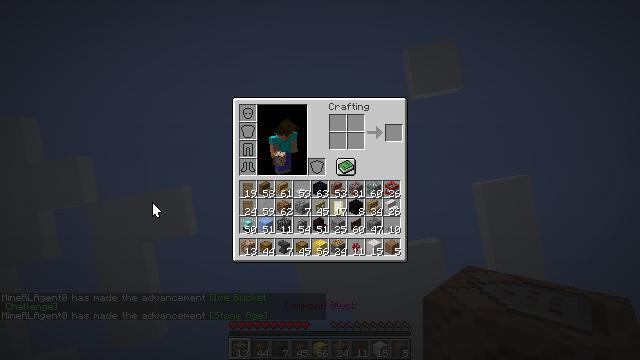cursor: (202, 152, 218, 162)
